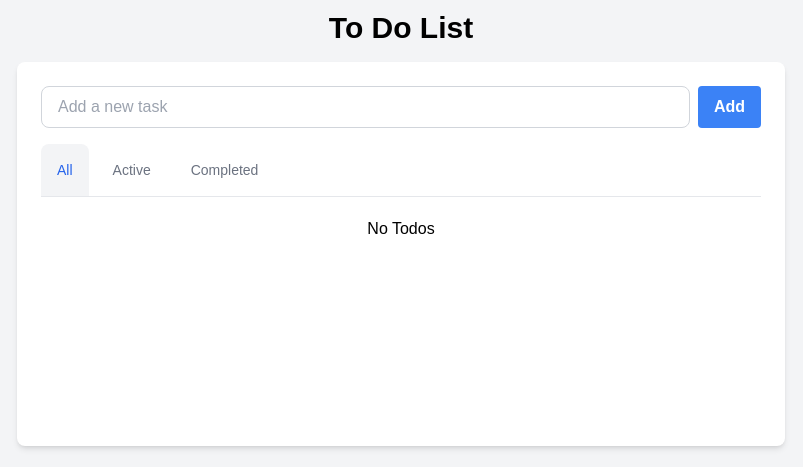
it: TodoMain Component › Adds a new todo by clicking Add
The width and height of the screenshot is (803, 467).
In the field with placeholder "Add a new task": [365, 107] box [41,86,690,128], type "New Task"
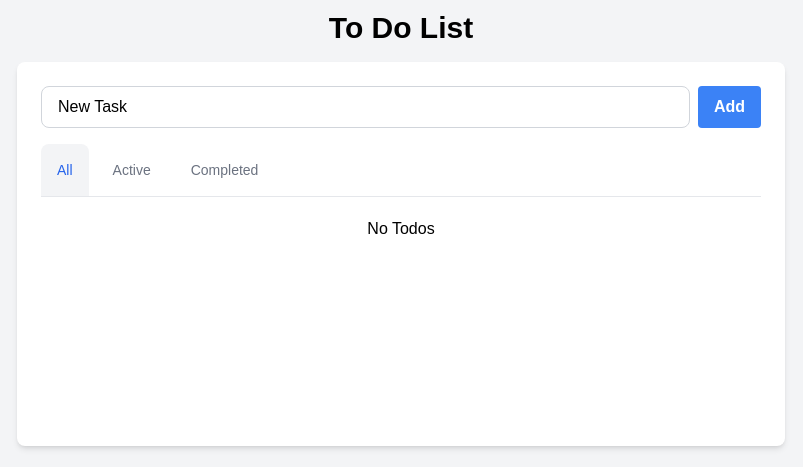
Click the button "Add": [729, 107] box [698,86,761,128]
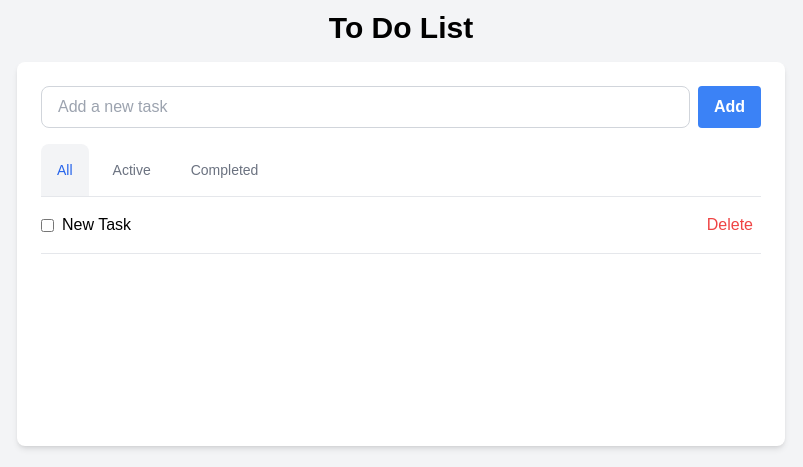
Now the text "New Task" is shown, box [62,213,131,237]
